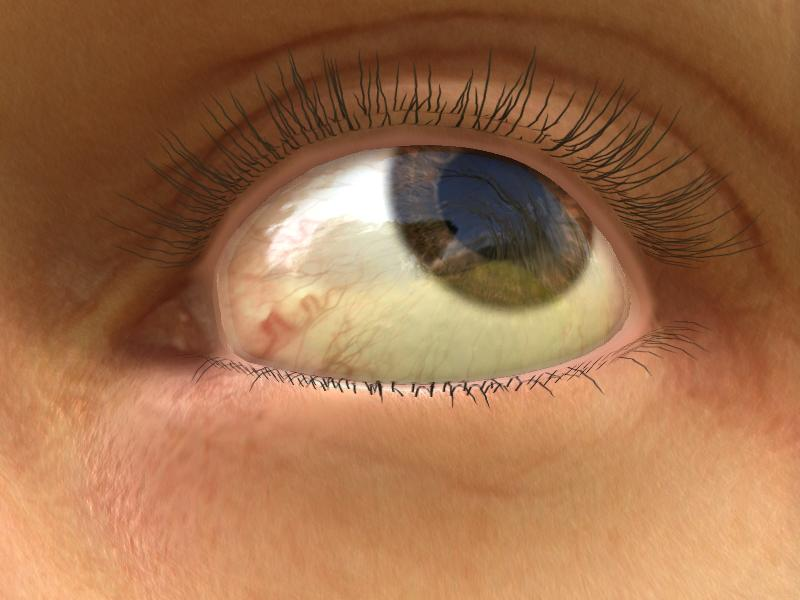eye: (388, 144, 596, 307)
